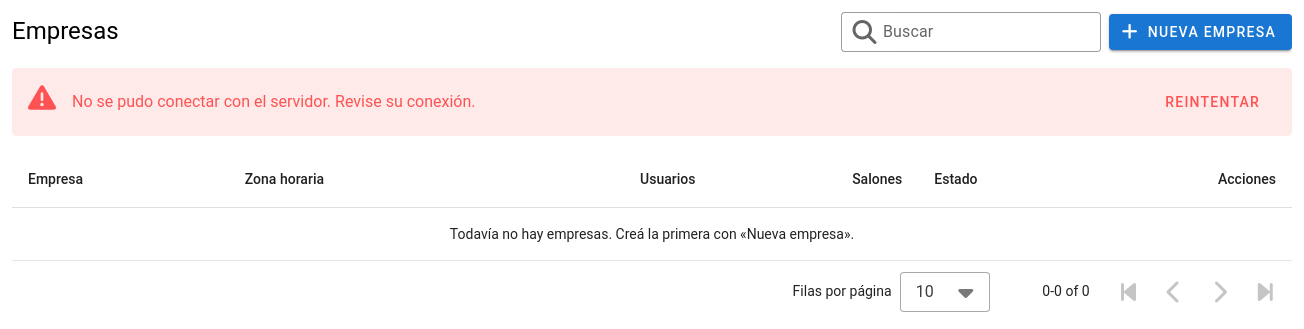
Test: EmpresasPlataforma › listado › si falla la carga muestra el error y permite reintentar
Click the button "Reintentar". click: (1212, 102)
box: left=1148, top=84, right=1276, bottom=120
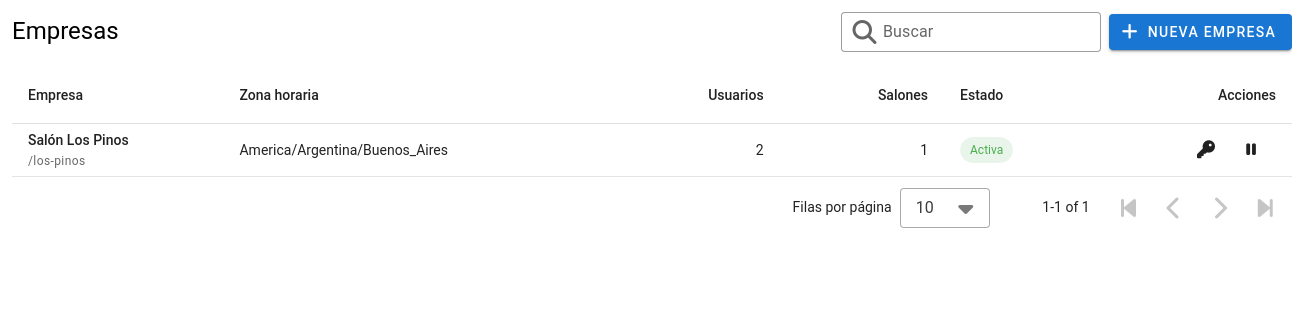
Expected: the text "Salón Los Pinos" is shown, left=28, top=132, right=129, bottom=148
Expected: the text "No se pudo conectar" is gone
